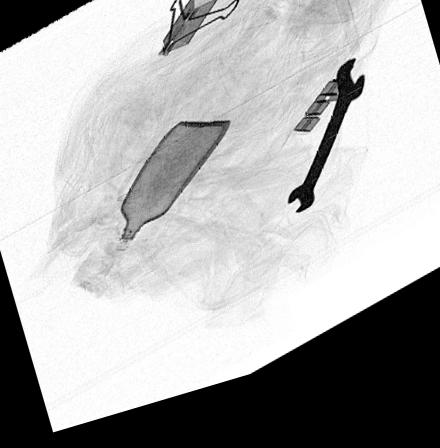Wrench: (285, 80, 367, 232)
